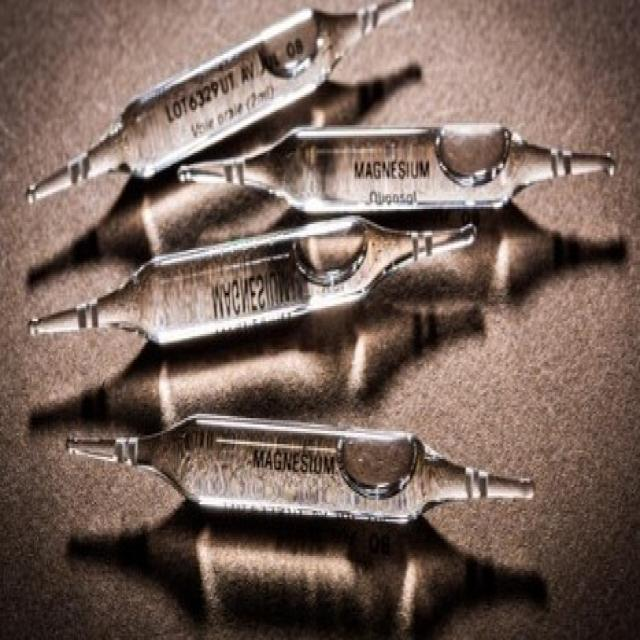electronic: (23, 1, 613, 524)
